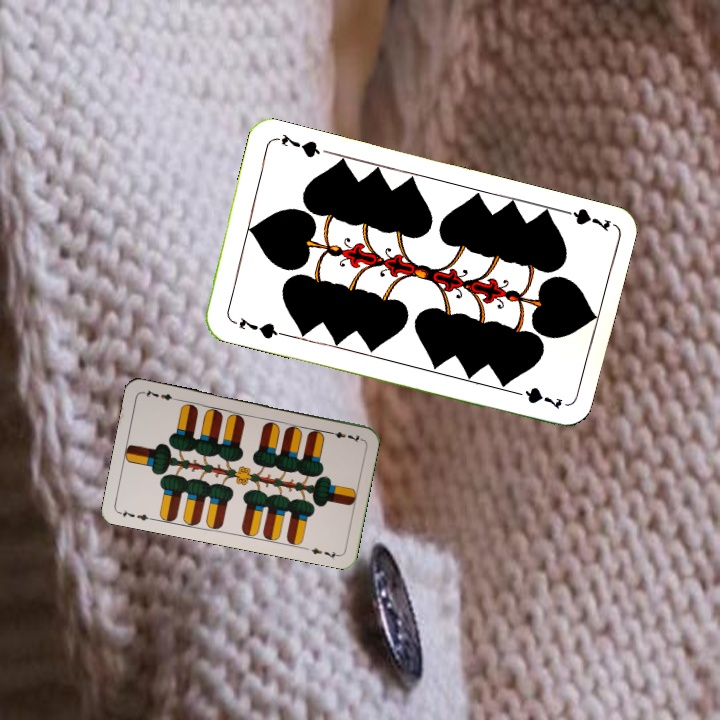E7: (323, 427, 364, 444), (116, 506, 156, 523)
G7: (554, 204, 613, 234), (235, 314, 285, 342)
